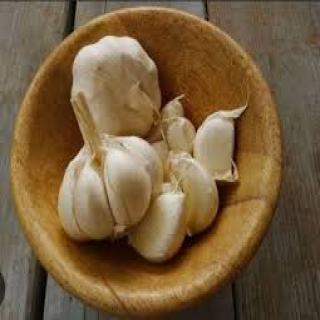Bawang Putih: (39, 34, 260, 285)
